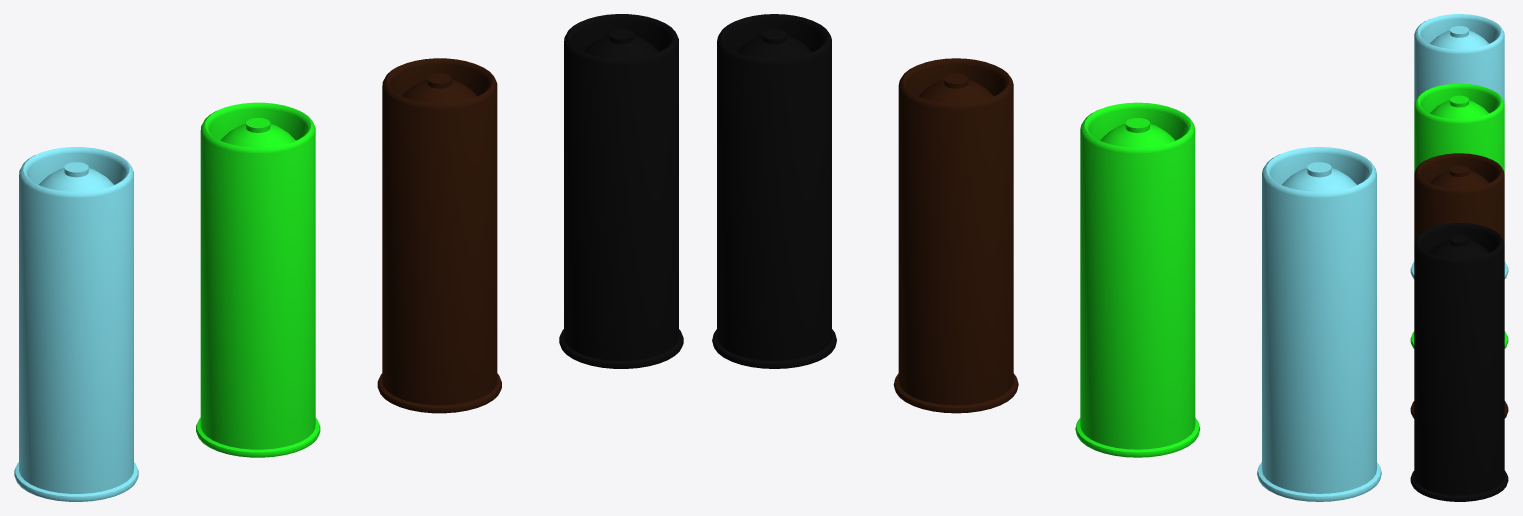
File: Bullets.fbx
The picture shows the model from 3 angles, left to right: view 1: azimuth 30°, elevation 25°; view 2: azimuth 150°, elevation 25°; view 3: azimuth 270°, elevation 25°; orthographic projection. The views are drawn at different scales.
Visible parts, largest first — view 1: Bullets010, Bullets009, Bullets011, Bullets008; view 2: Bullets009, Bullets010, Bullets011, Bullets008; view 3: Bullets011, Bullets010, Bullets009, Bullets008.
Boxes of the visible parts, bbox=[...] form: Bullets010: bbox=[377, 58, 501, 413]; Bullets009: bbox=[196, 102, 320, 457]; Bullets011: bbox=[559, 14, 683, 368]; Bullets008: bbox=[14, 147, 138, 501]; Bullets009: bbox=[1075, 102, 1200, 457]; Bullets010: bbox=[893, 58, 1018, 413]; Bullets011: bbox=[712, 14, 836, 368]; Bullets008: bbox=[1257, 147, 1381, 501]; Bullets011: bbox=[1410, 223, 1508, 501]; Bullets010: bbox=[1410, 153, 1508, 418]; Bullets009: bbox=[1410, 83, 1508, 348]; Bullets008: bbox=[1410, 14, 1508, 279].
Size of the model in its own units: 8.63 by 3.91 by 1.43.
